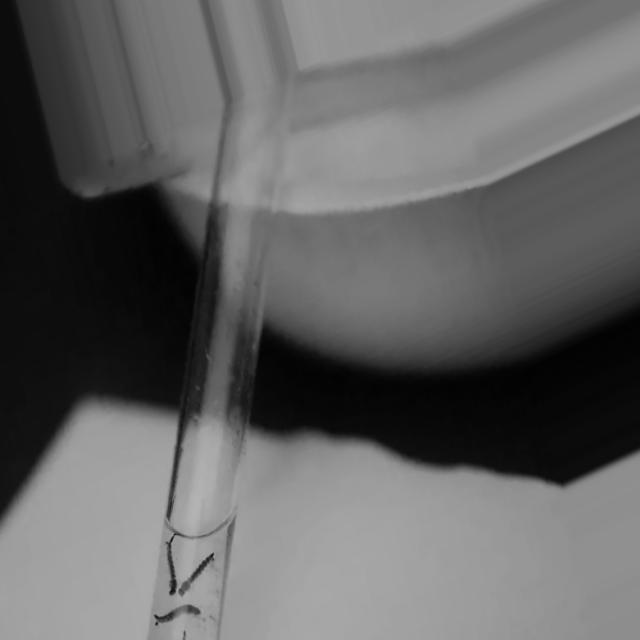larvas: (175, 550, 219, 600), (153, 599, 200, 630), (166, 533, 178, 596)
